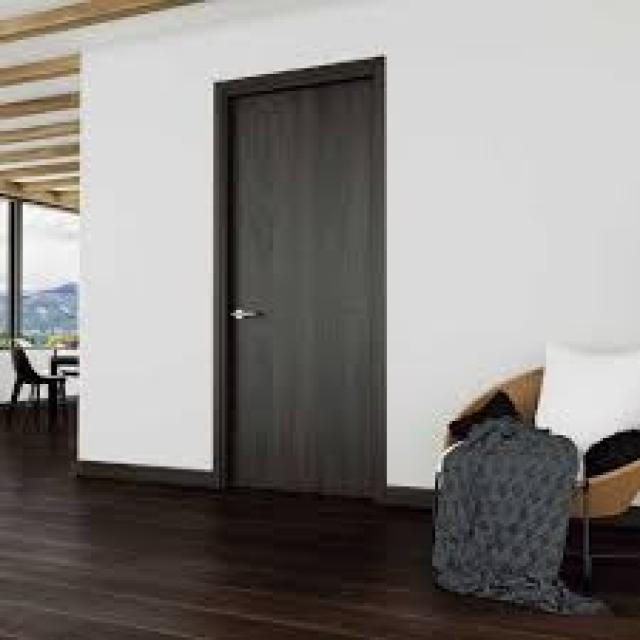door: (213, 57, 387, 501)
